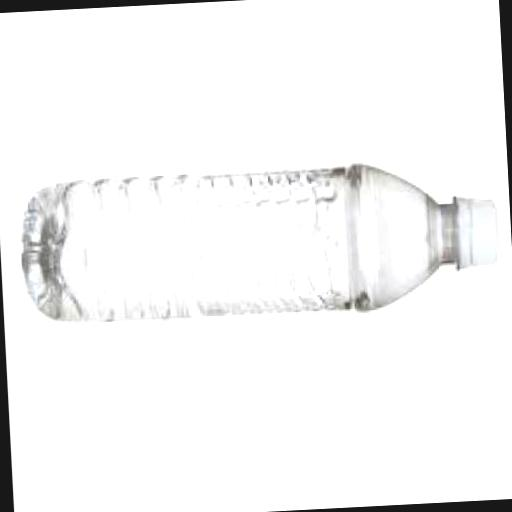plastic: (18, 158, 504, 332), (456, 197, 502, 274)
